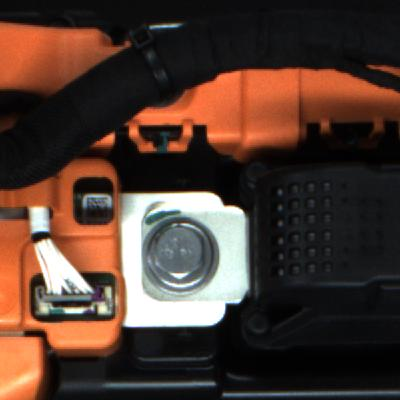nut_b: (133, 211, 225, 301)
